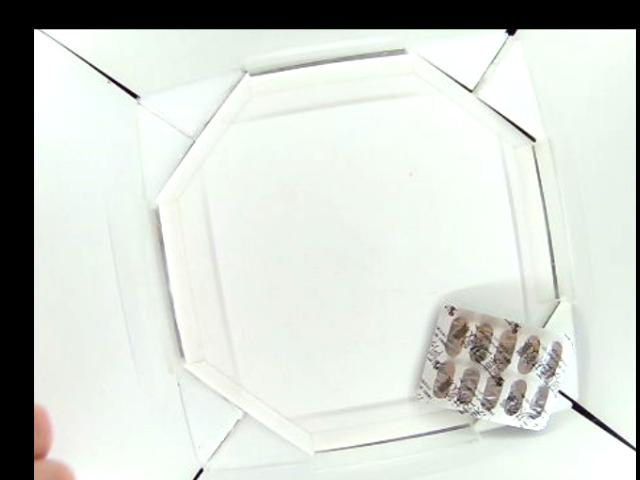Medicine: (413, 302, 570, 432)
